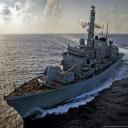Fragata: (1, 2, 88, 125)
